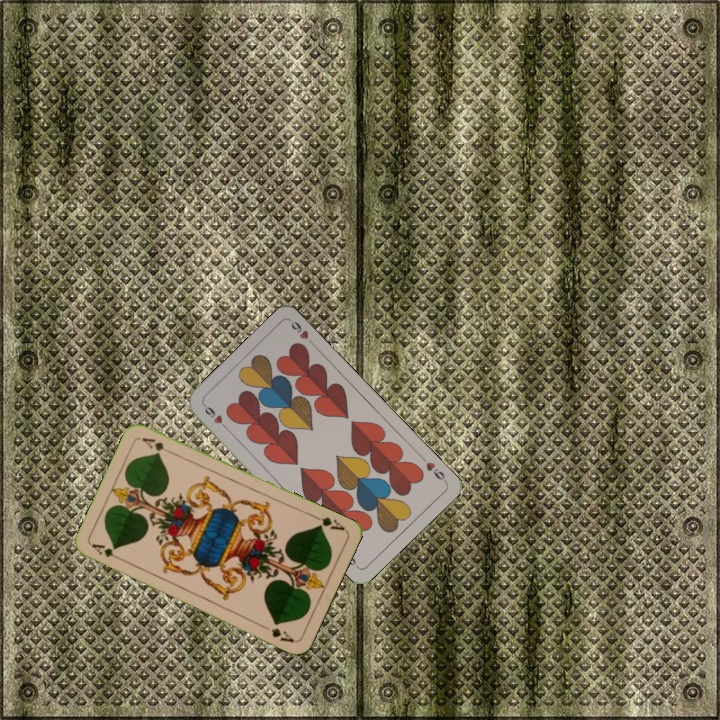GA: (87, 540, 126, 564), (309, 511, 347, 533)
H9: (417, 452, 449, 485), (199, 401, 231, 433)
